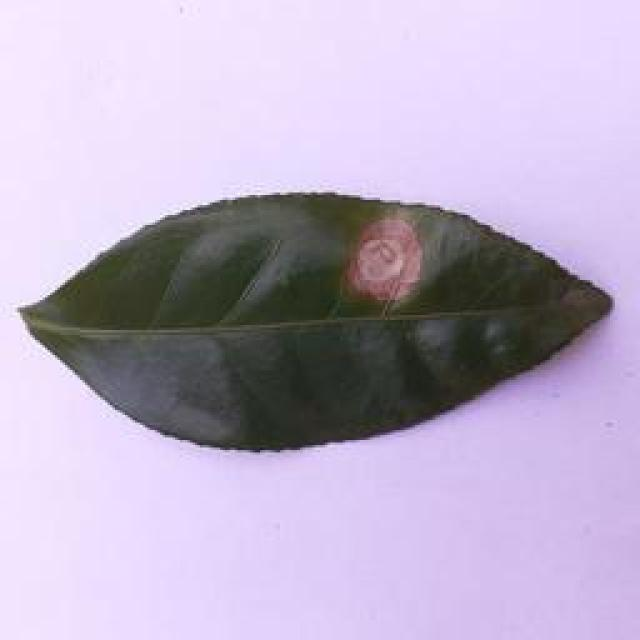Gray Blight: (15, 190, 618, 452)
